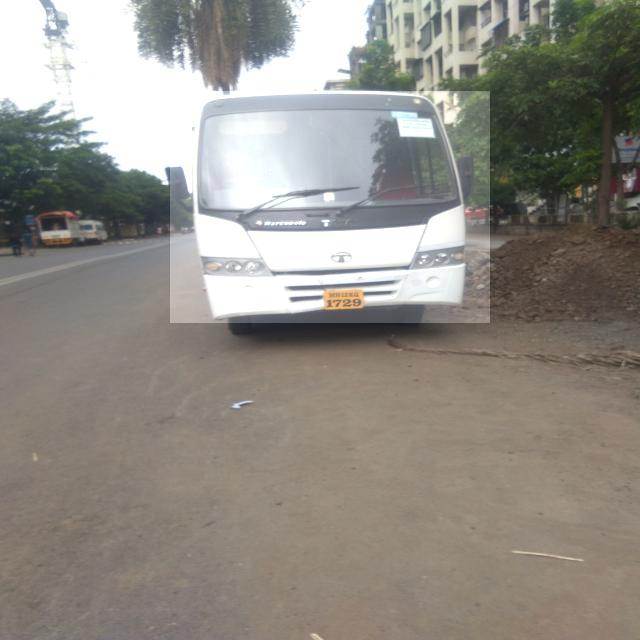Bus: (170, 91, 490, 323)
